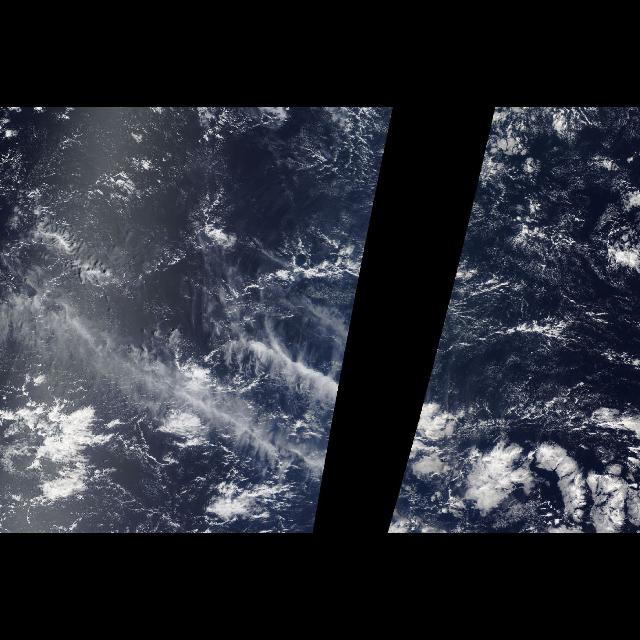Fish: (18, 286, 360, 470)
Flower: (388, 391, 640, 533)
Gravel: (446, 123, 640, 389)
Sugar: (16, 119, 390, 405), (421, 119, 625, 405)
